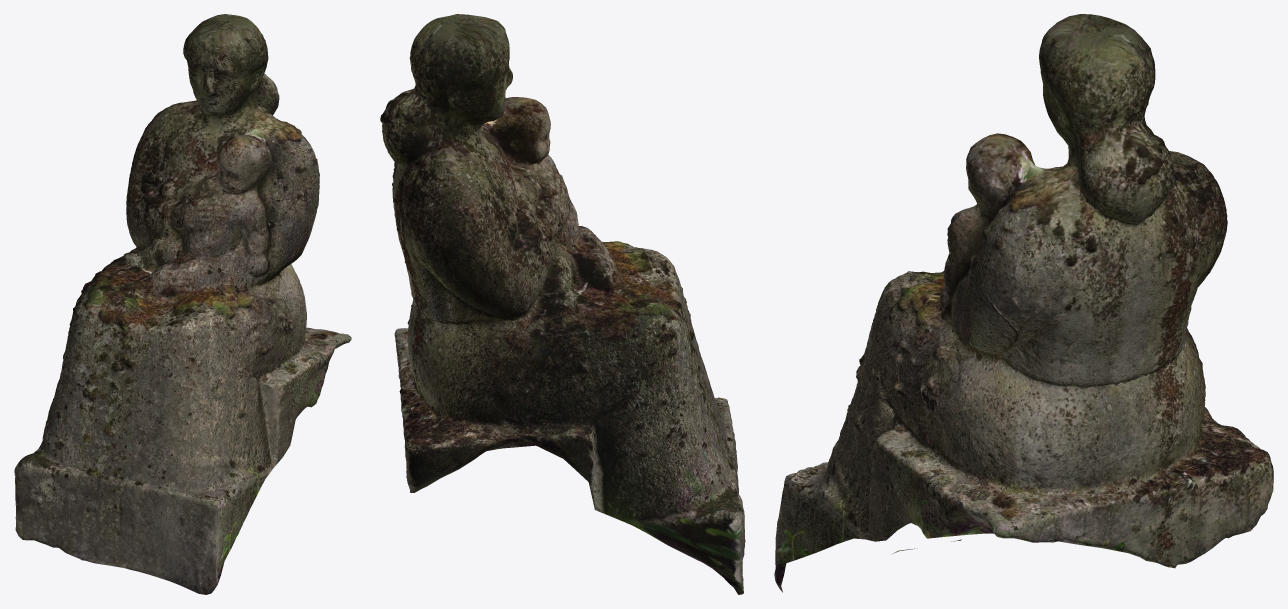
3 views of the same model, side by side, from view 1: azimuth 30°, elevation 25°; view 2: azimuth 150°, elevation 25°; view 3: azimuth 270°, elevation 25° (orthographic). The views are drawn at different scales.
Parts seen in each view (by area): view 1: 4f9d27f0-54d8-477c-81ce-4d7bc9cb19d4_0; view 2: 4f9d27f0-54d8-477c-81ce-4d7bc9cb19d4_0; view 3: 4f9d27f0-54d8-477c-81ce-4d7bc9cb19d4_0.
Part boxes in pixels (x1=…): 4f9d27f0-54d8-477c-81ce-4d7bc9cb19d4_0: x1=14, y1=14, x2=351, y2=594; 4f9d27f0-54d8-477c-81ce-4d7bc9cb19d4_0: x1=380, y1=14, x2=745, y2=594; 4f9d27f0-54d8-477c-81ce-4d7bc9cb19d4_0: x1=774, y1=14, x2=1273, y2=592.
Size of the model in its own units: 0.8624 by 1.2 by 0.8307.
1 material, 1 textured.
